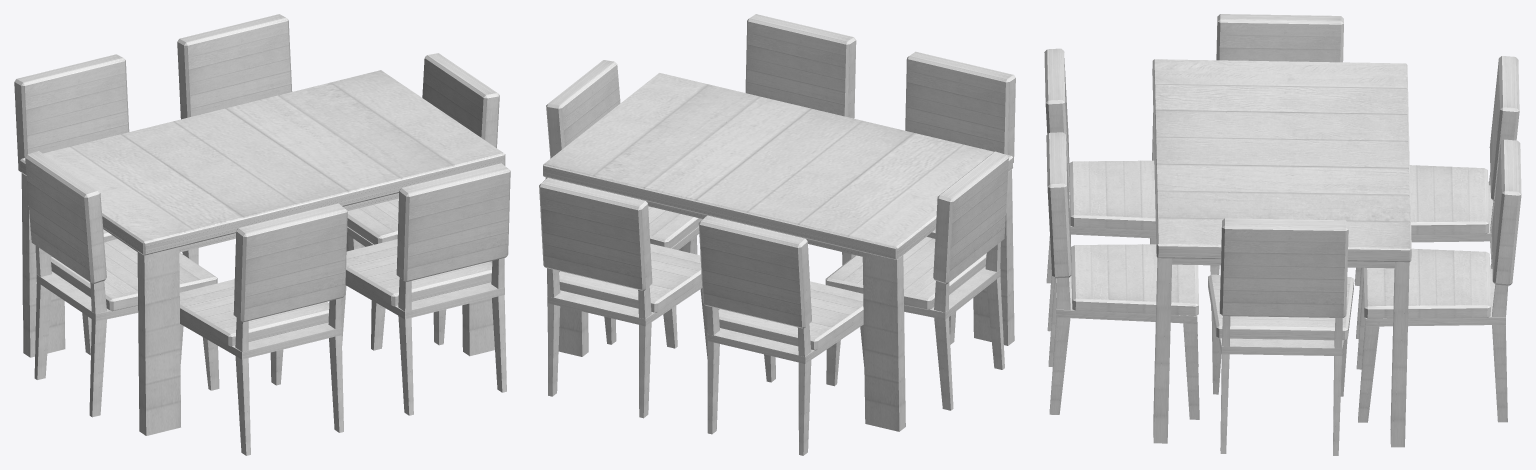
The model's file is Comedor.obj.
3 renders of one model, left to right at view 1: azimuth 30°, elevation 25°; view 2: azimuth 150°, elevation 25°; view 3: azimuth 270°, elevation 25°, orthographic. The views are drawn at different scales.
Bounding box in the file's own units: 262 × 139 × 249.
Materials: 4 (4 with a texture image).
